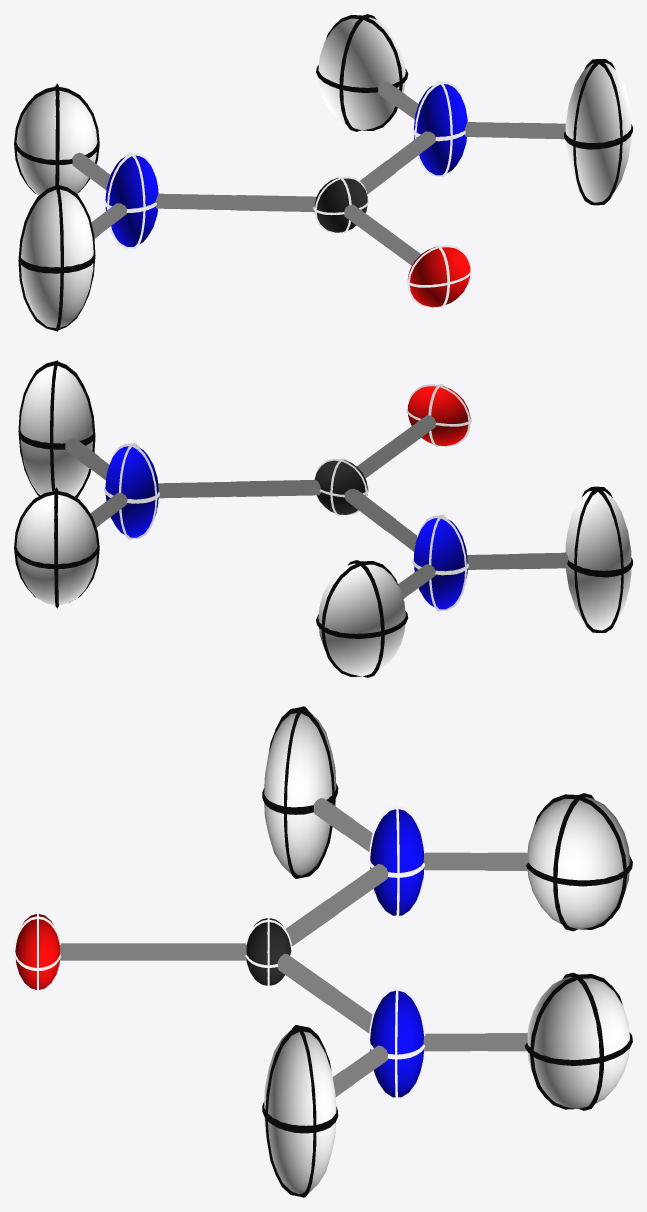
The model's file is blender_out.obj.
3 renders of one model, top to bottom at view 1: azimuth 30°, elevation 25°; view 2: azimuth 150°, elevation 25°; view 3: azimuth 270°, elevation 25°, orthographic. The views are drawn at different scales.
Visible parts, largest first — view 1: object 13, H2, H1, object 15, N, object 11, O, object 14, C, H1.000, H2.000, object 16 (+13 smaller); view 2: object 15, H1, H2, object 13, object 11, N, O, C, object 16, H2.000, H1.000, object 14 (+15 smaller); view 3: object 15, H2, H1, object 13, object 11, N, H2.000, object 16, O, H1.000, C, object 14 (+13 smaller).
Boxes of the visible parts, left/top/right/bottom form: object 13: left=21, top=189, right=93, bottom=327; H2: left=318, top=17, right=405, bottom=130; H1: left=565, top=63, right=631, bottom=202; object 15: left=16, top=86, right=97, bottom=195; N: left=414, top=84, right=467, bottom=175; object 11: left=105, top=155, right=158, bottom=246; O: left=408, top=247, right=470, bottom=307; object 14: left=18, top=184, right=95, bottom=331; C: left=314, top=178, right=367, bottom=232; H1.000: left=564, top=59, right=632, bottom=205; H2.000: left=316, top=14, right=408, bottom=131; object 16: left=14, top=83, right=99, bottom=195; object 15: left=318, top=563, right=405, bottom=676; H1: left=20, top=365, right=92, bottom=496; H2: left=16, top=490, right=97, bottom=605; object 13: left=565, top=491, right=631, bottom=630; object 11: left=414, top=518, right=467, bottom=609; N: left=105, top=446, right=158, bottom=537; O: left=408, top=386, right=470, bottom=446; C: left=314, top=460, right=367, bottom=514; object 16: left=316, top=560, right=408, bottom=677; H2.000: left=14, top=487, right=99, bottom=608; H1.000: left=18, top=360, right=95, bottom=497; object 14: left=565, top=486, right=632, bottom=632; object 15: left=527, top=797, right=629, bottom=929; H2: left=527, top=974, right=629, bottom=1108; H1: left=264, top=1030, right=336, bottom=1193; object 13: left=264, top=711, right=336, bottom=875; object 11: left=370, top=809, right=423, bottom=915; N: left=370, top=990, right=423, bottom=1097; H2.000: left=524, top=972, right=632, bottom=1110; object 16: left=526, top=793, right=632, bottom=931; O: left=15, top=914, right=59, bottom=989; H1.000: left=262, top=1025, right=338, bottom=1197; C: left=246, top=918, right=291, bottom=985; object 14: left=262, top=706, right=338, bottom=878.
Bounding box in the file's own units: 4.5 × 1.08 × 3.37.
